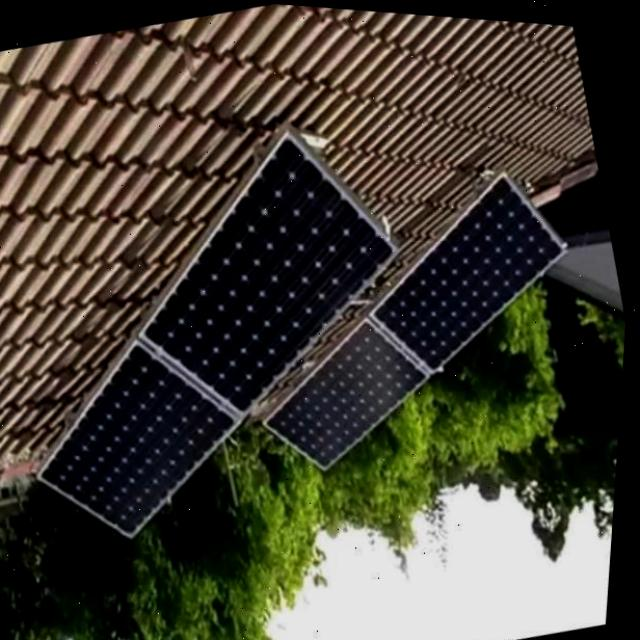Normal Solar Panel: (0, 80, 463, 569), (218, 138, 614, 490)
